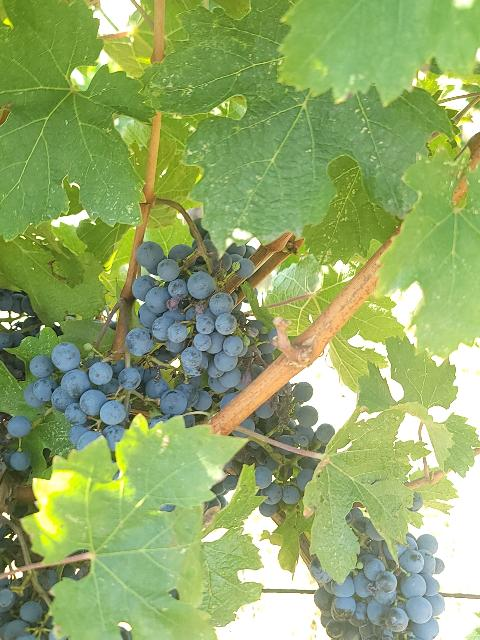grapes: (24, 341, 190, 449), (125, 241, 248, 382), (310, 518, 445, 640)
